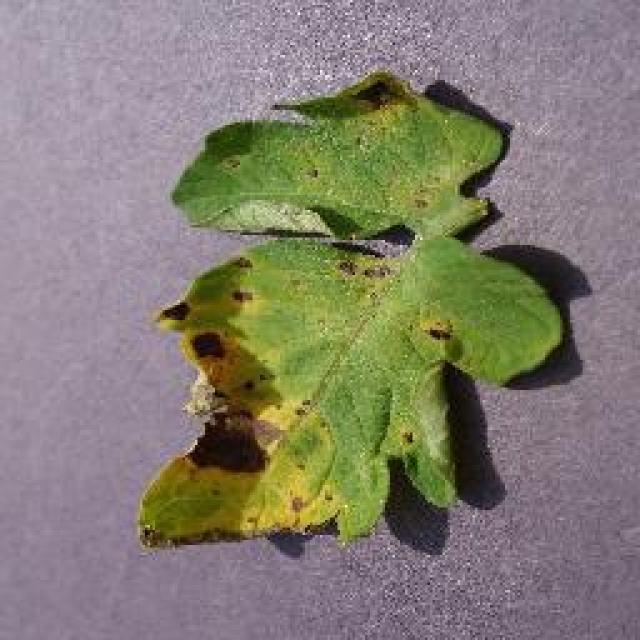Tomato Septoria spot leaf: (136, 66, 564, 552)
